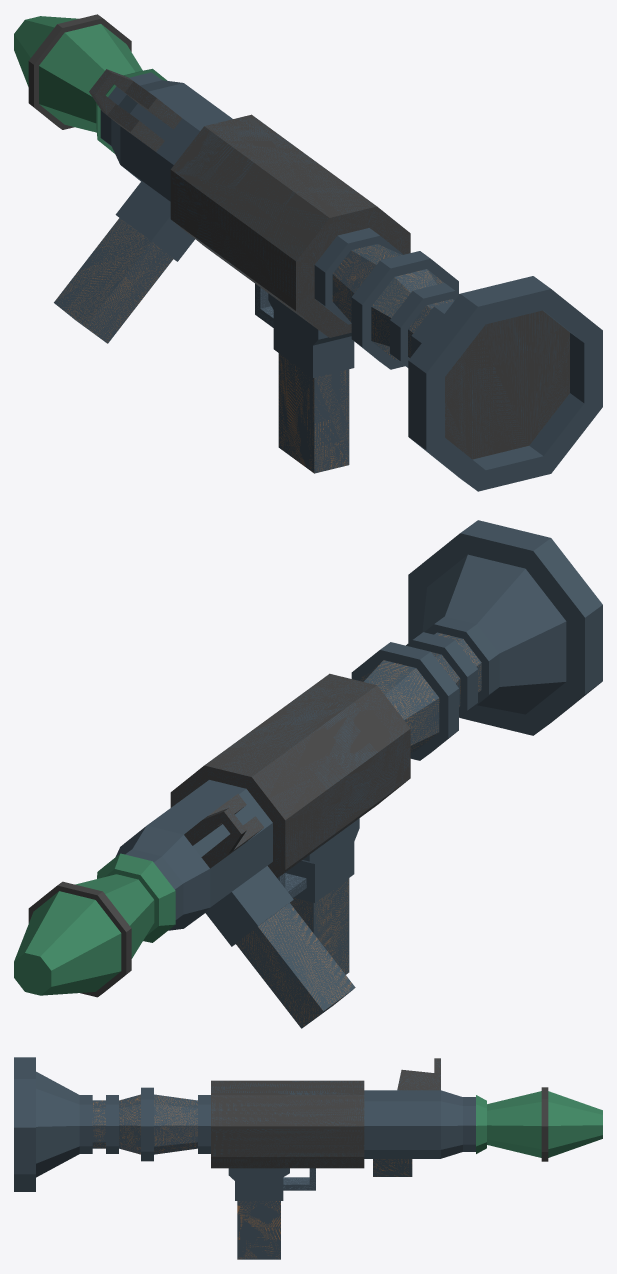
The model's file is rocketlauncherSide.obj.
3 renders of one model, top to bottom at view 1: azimuth 30°, elevation 25°; view 2: azimuth 150°, elevation 25°; view 3: azimuth 270°, elevation 25°, orthographic. The views are drawn at different scales.
Visible parts, largest first — view 1: Group; view 2: Group; view 3: Group.
Part boxes in pixels (<box>): Group: <box>14,14,602,491</box>; Group: <box>14,520,602,1028</box>; Group: <box>14,1057,602,1259</box>.
Bounding box in the file's own units: 0.2753 × 0.3598 × 1.03.
